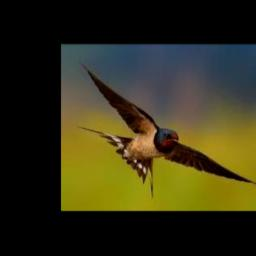Swallow: (77, 61, 256, 197)
